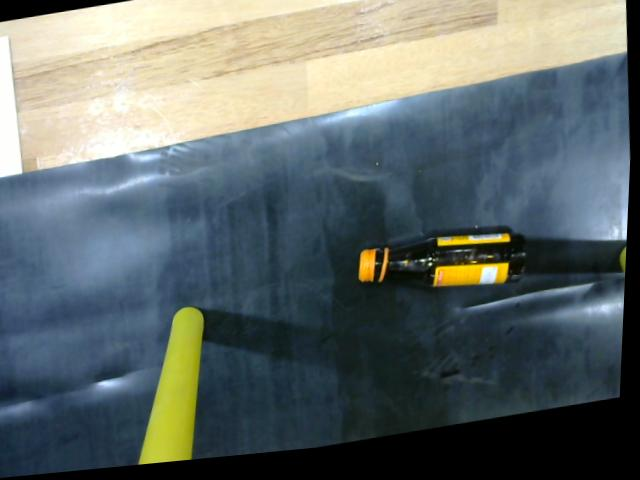glass: (358, 235, 532, 301)
